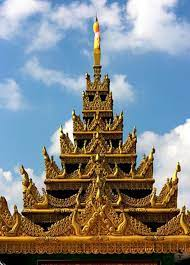Temple: (4, 20, 187, 249)
